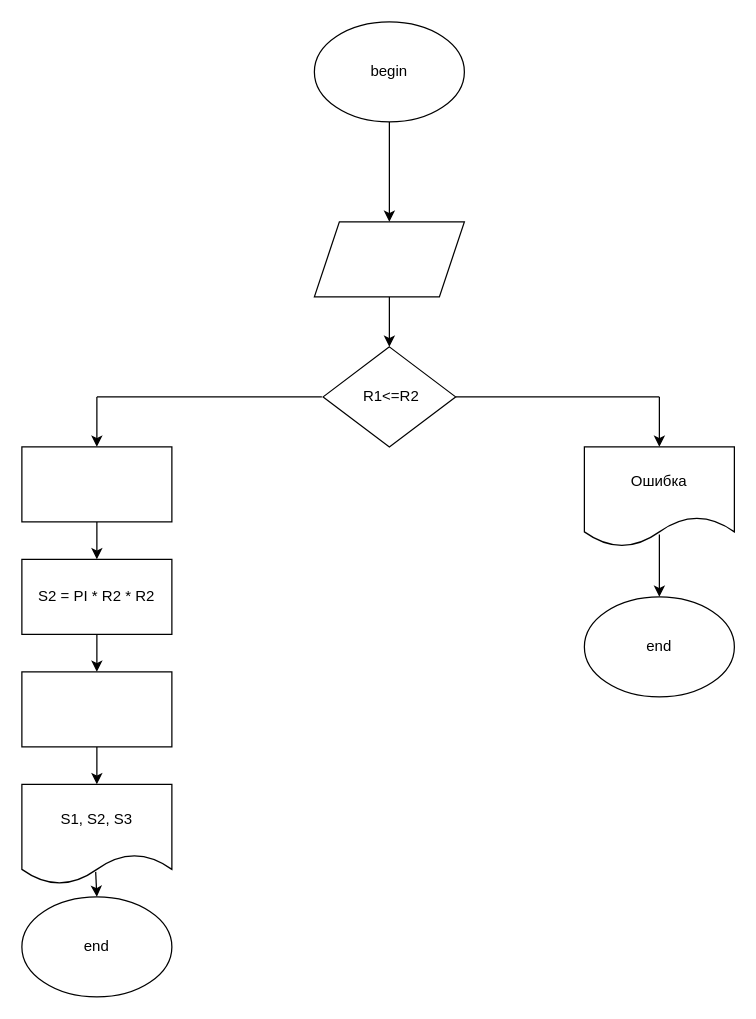
The diagram is 756 pixels wide and 1019 high, and some of its shapes have lost their labels. Here are the shapes that lost their labels. From the top down, the centre of each, then its label:
(388,259): R1, R2,
(96,484): S1 = PI * R1 * R1
(96,709): S3 = S1 - S2
